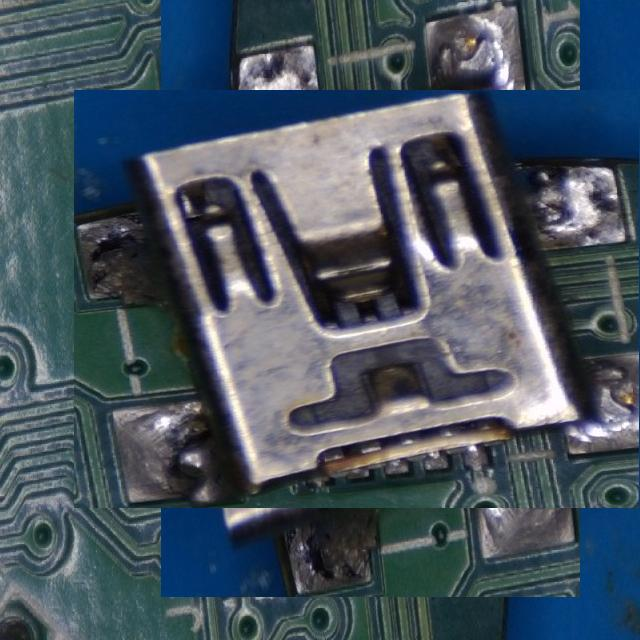Incorrect_installation: (73, 90, 640, 508)
